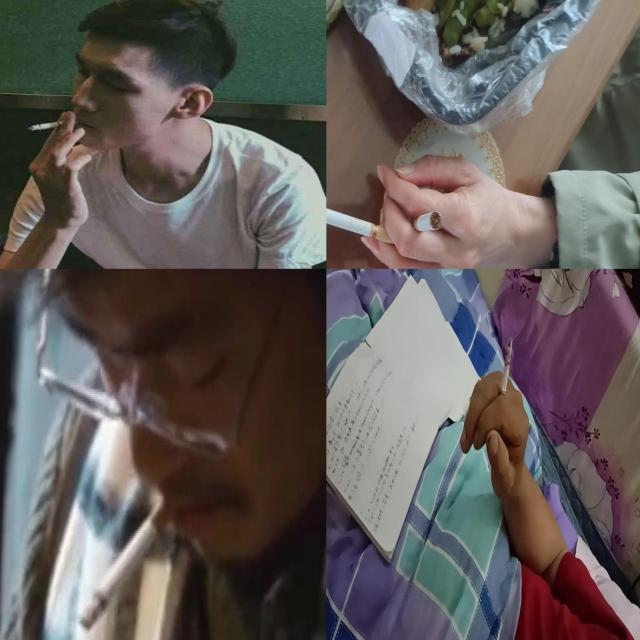cigarette: (77, 485, 182, 633), (326, 198, 401, 248), (497, 338, 513, 410), (412, 212, 444, 234), (28, 119, 80, 132)
